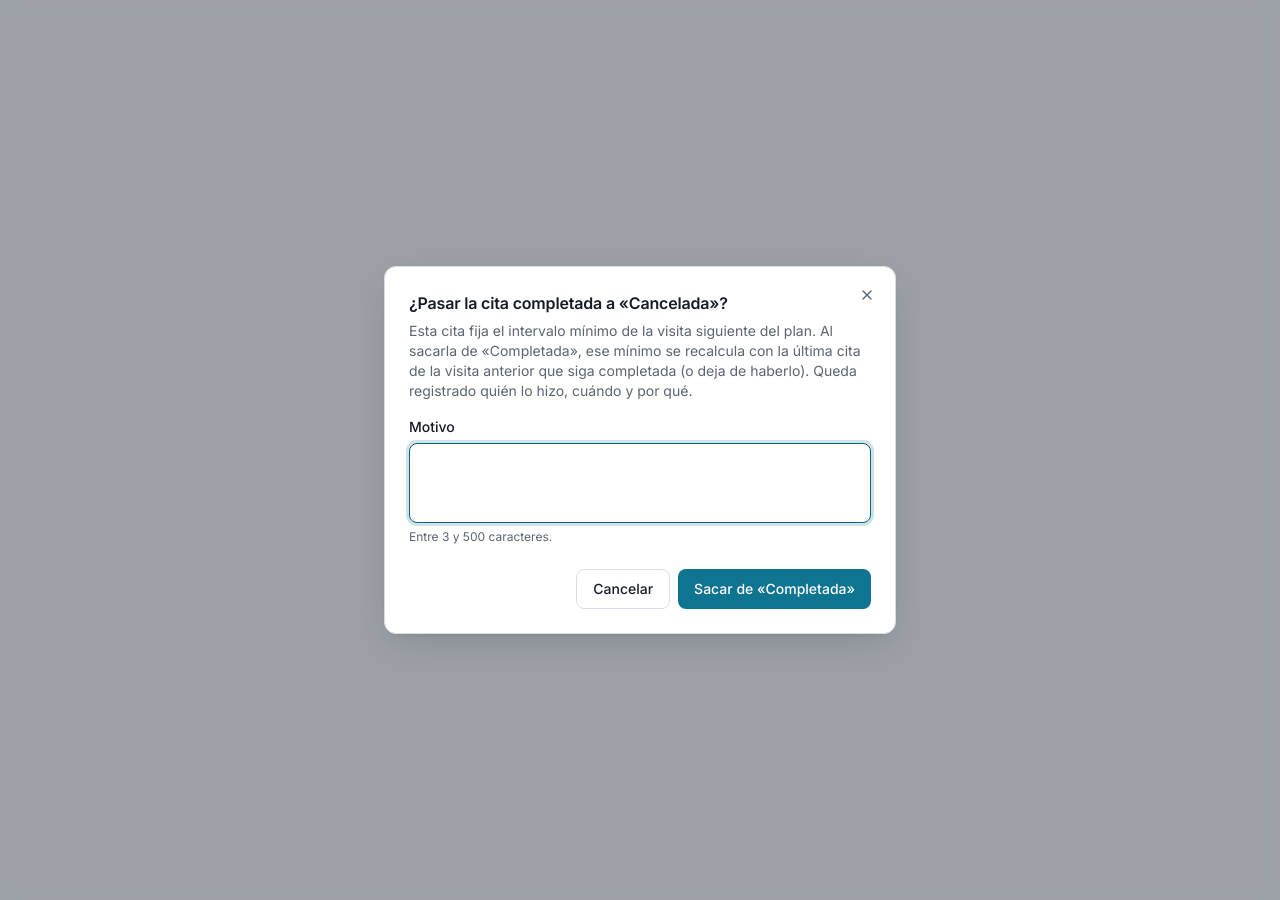
it: CompletedExitModal (DX-273) › si la API lo rechaza, el error en español queda en el modal
Type "Error de recepción" into the text box labelled "Motivo" at (640, 483), box x1=409 y1=443 x2=871 y2=523
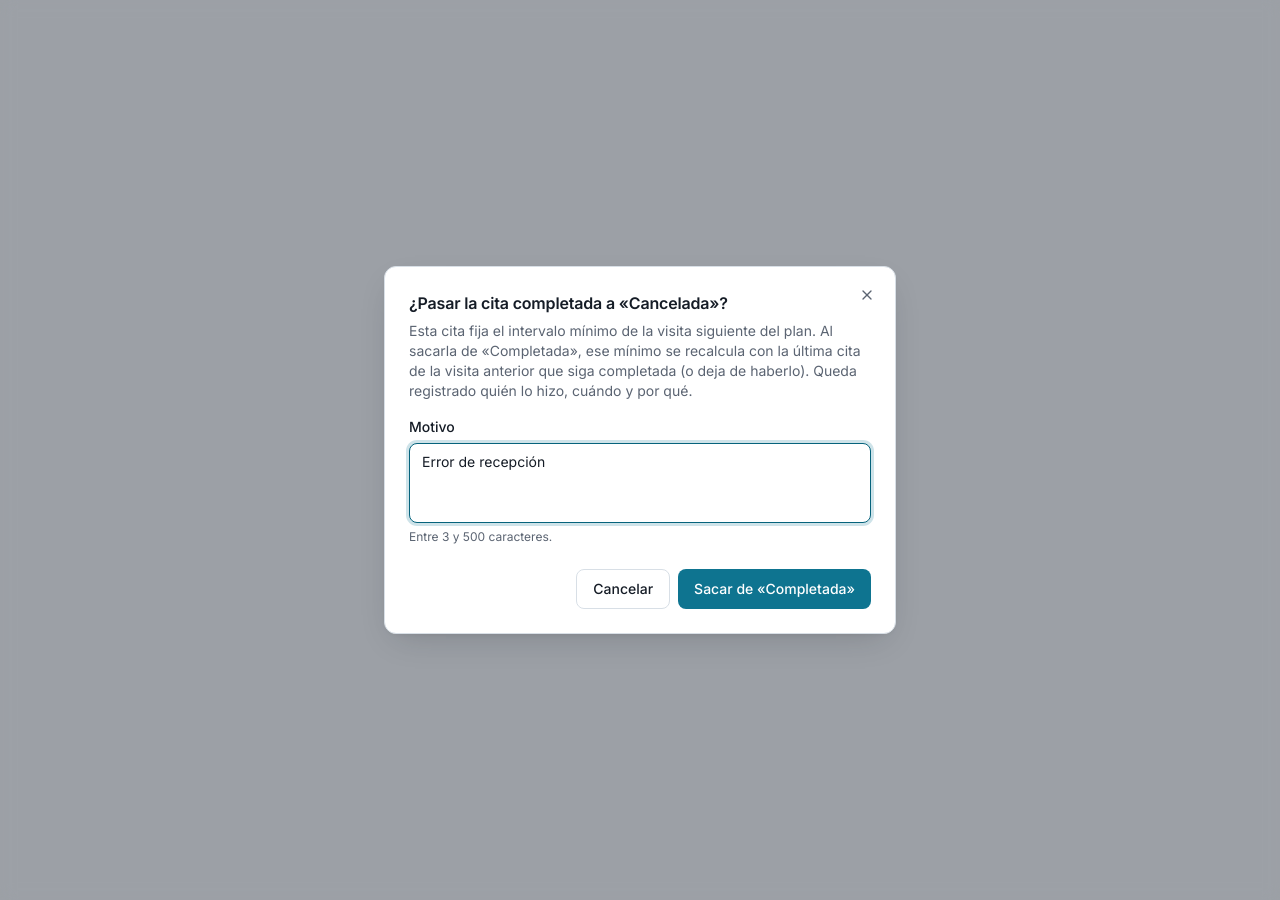
Click the button "Sacar de «Completada»" at (775, 589), box x1=678 y1=569 x2=871 y2=609
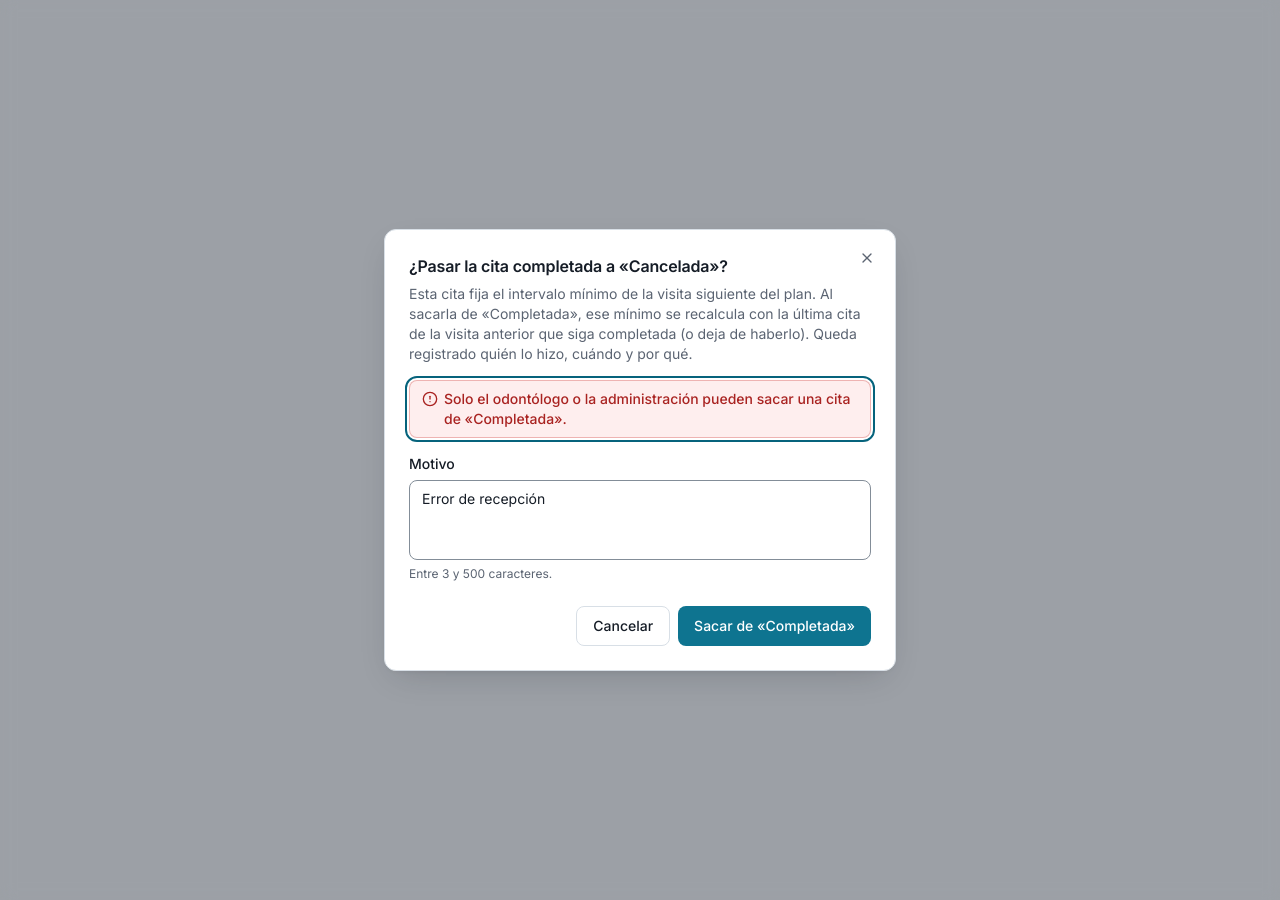
Result: the text "Solo el odontólogo o la administración pueden sacar una cita de «Completada»." is shown at x1=444 y1=389 x2=858 y2=429
